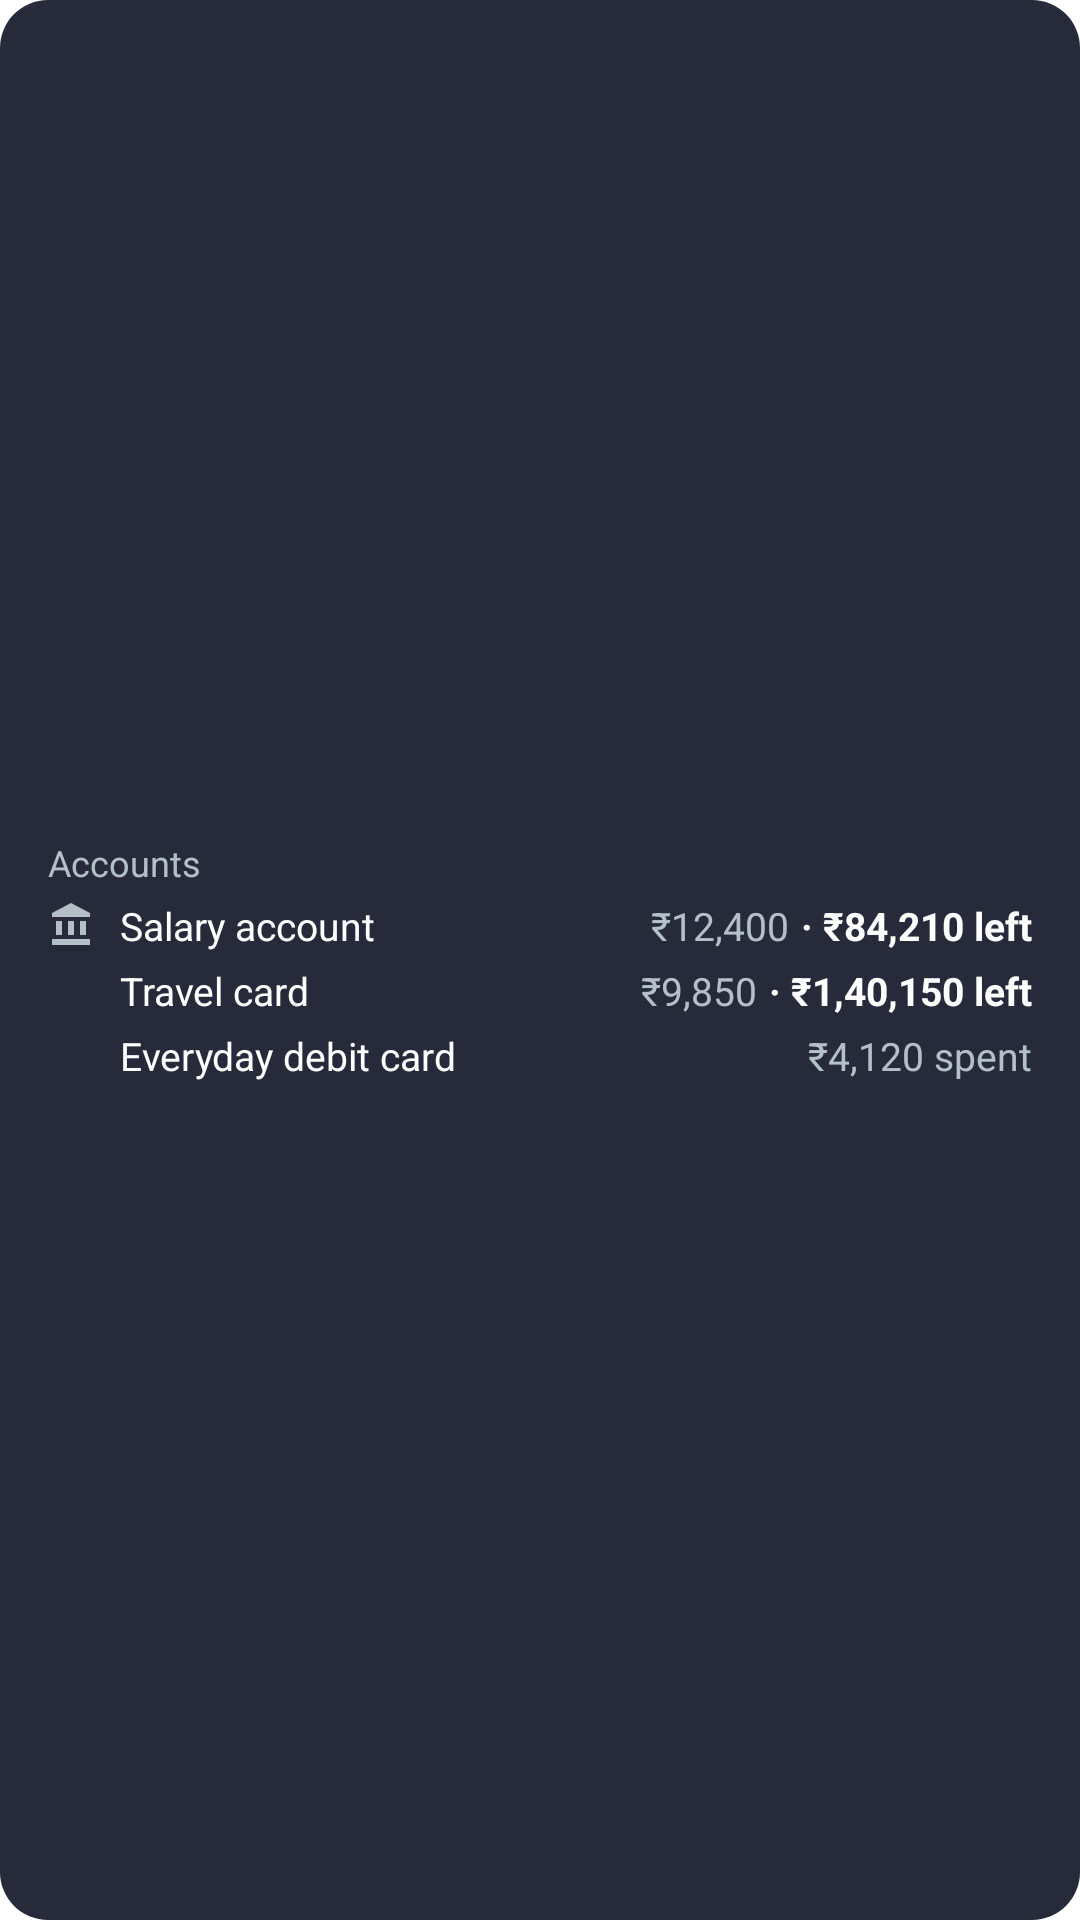

Icons on this 1080px x 1920px Android screen, each with its box as (x1,y1,x2,y2):
widget bank: (52,903,90,945)
